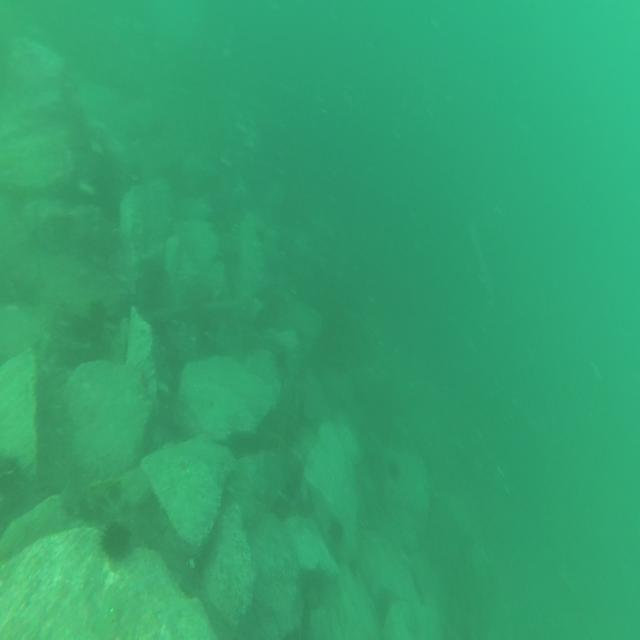echinus: (98, 516, 134, 564), (329, 514, 345, 544), (386, 457, 401, 482)
